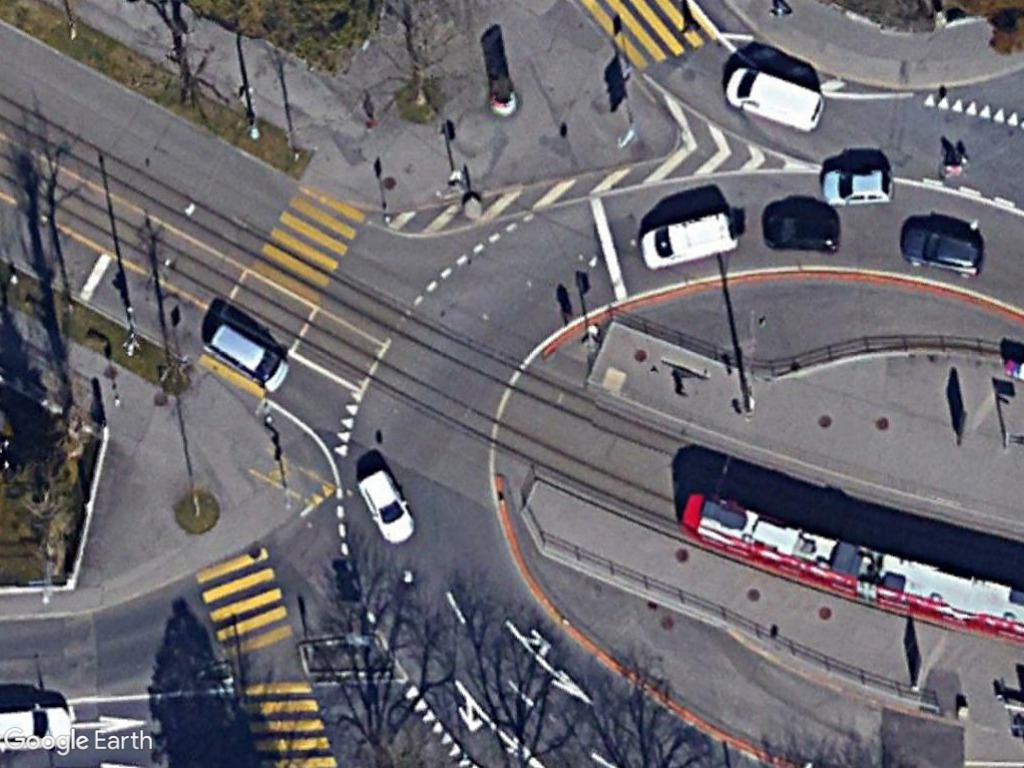car: (897, 220, 988, 283), (359, 465, 419, 551), (815, 163, 897, 211)
van: (720, 60, 829, 135), (201, 317, 289, 394), (636, 208, 739, 270)
